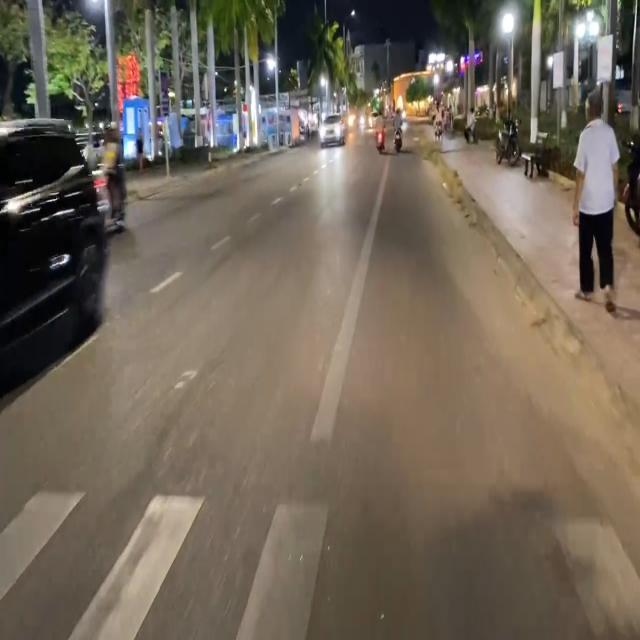walk-crossing: (1, 486, 640, 639)
